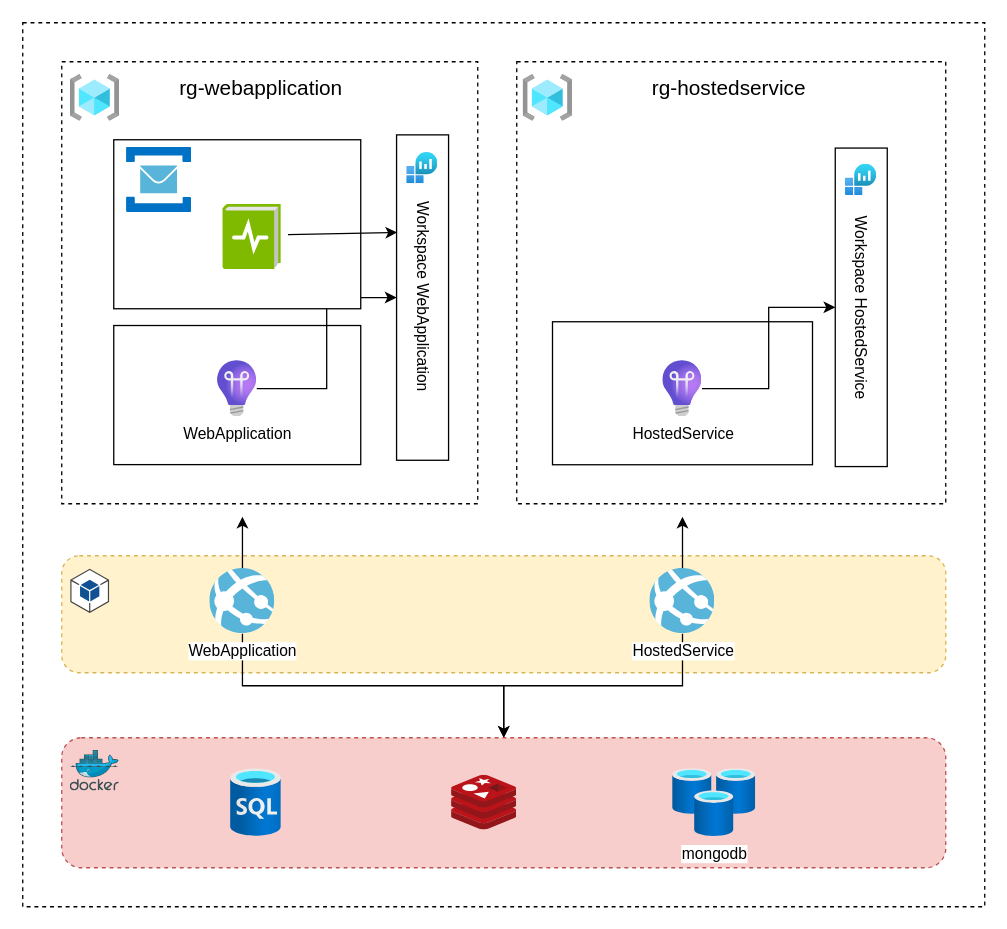
Some shapes in this 1007 by 929 pixel diagram are drawn without their labels. Each missing label, with the centre of its shape:
"diagnostic-settings" goes at (251,236).
"redis" goes at (483,802).
"sb-observability" goes at (158,179).
"sql-server" goes at (255,802).
